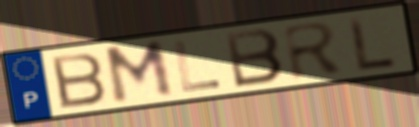B: (222, 26, 287, 90), (47, 50, 109, 111)
L: (346, 14, 400, 73), (171, 39, 224, 94)
M: (100, 38, 177, 108)
R: (279, 20, 349, 82)
